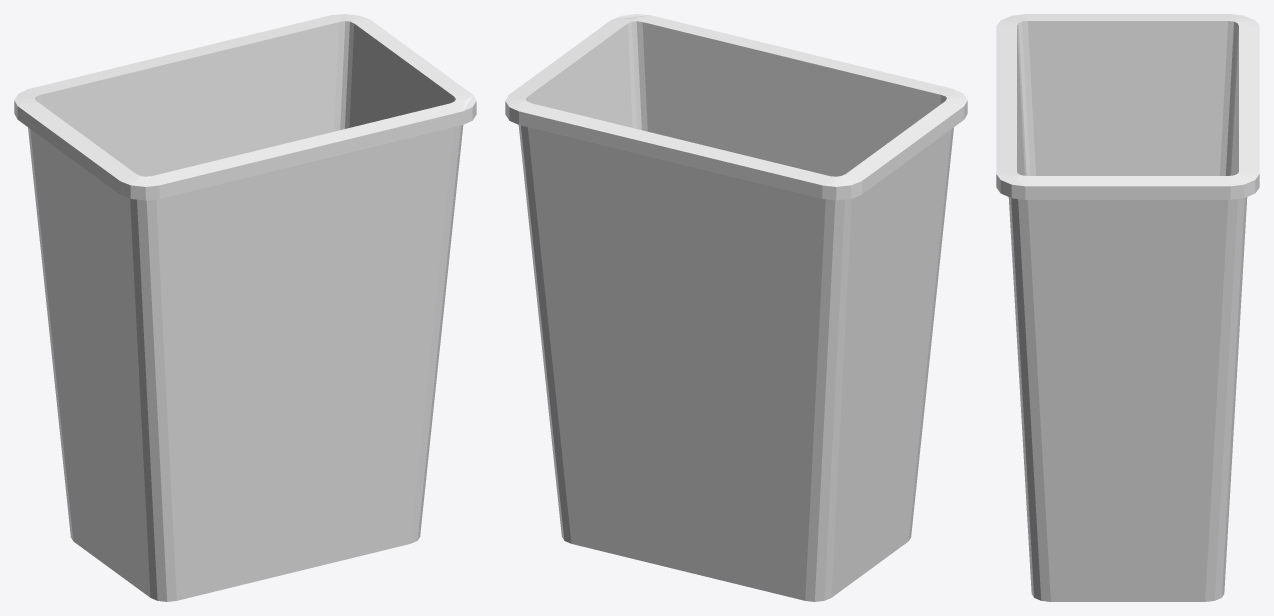
The model's file is cleaning_model_013.fbx.
3 views of the same model, side by side, from view 1: azimuth 30°, elevation 25°; view 2: azimuth 150°, elevation 25°; view 3: azimuth 270°, elevation 25° (orthographic).
Parts seen in each view (by area): view 1: polySurface5; view 2: polySurface5; view 3: polySurface5.
Part boxes in pixels (x1,y1,x2,y2): polySurface5: (14,14,476,601); polySurface5: (505,14,967,601); polySurface5: (996,14,1259,601).
Size of the model in its own units: 42.25 by 50.1 by 27.26.
1 material, 1 textured.
